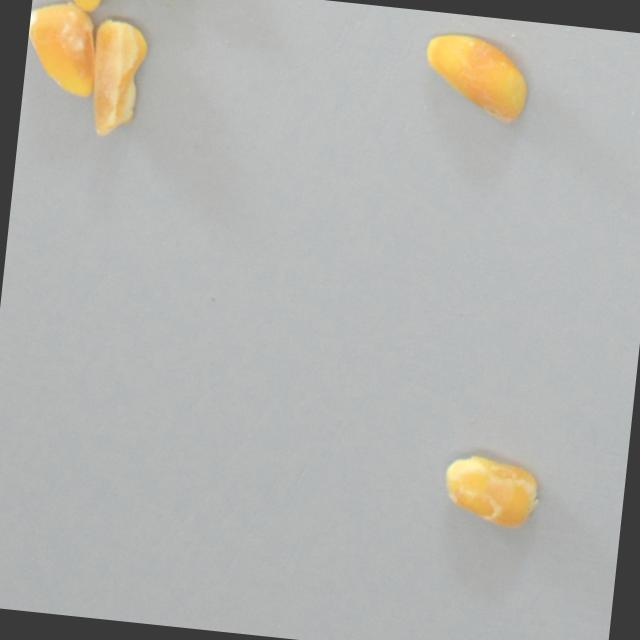pelicula: (417, 31, 531, 126), (438, 453, 544, 535), (84, 14, 151, 142), (22, 0, 102, 99), (41, 0, 129, 17)
